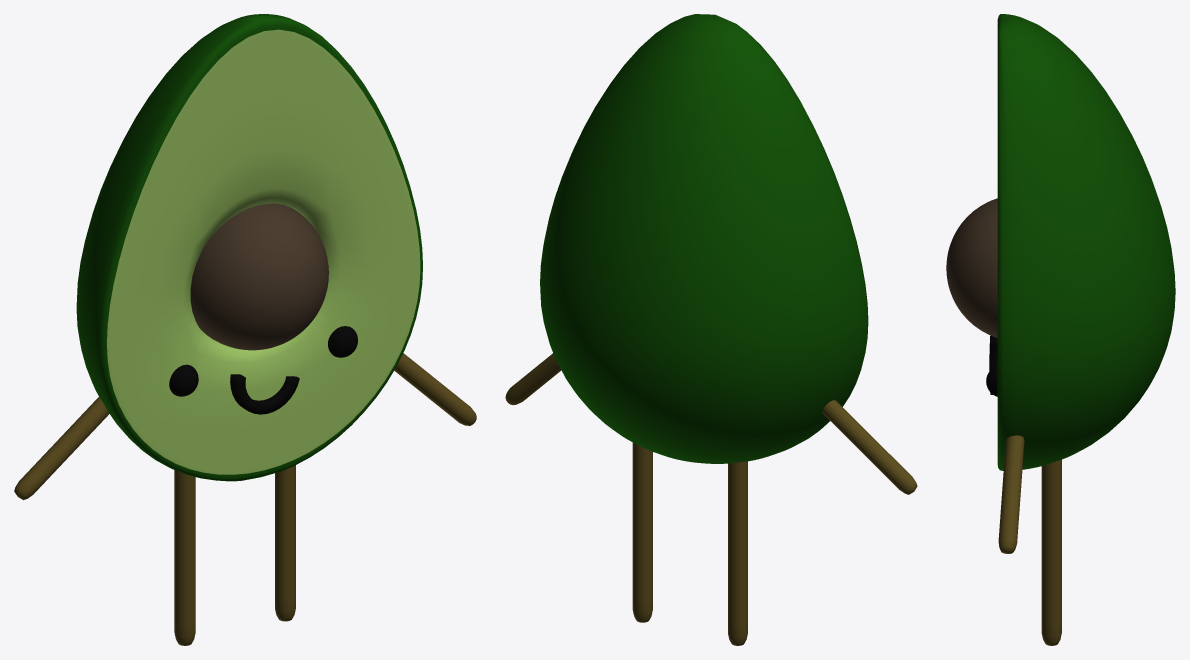
File: Gauca.glb
The picture shows the model from 3 angles, left to right: view 1: azimuth 30°, elevation 25°; view 2: azimuth 150°, elevation 25°; view 3: azimuth 270°, elevation 25°; orthographic projection. The views are drawn at different scales.
Parts seen in each view (by area): view 1: Sphere.006, Sphere.007, Cylinder.002, Circle.001, Sphere.004, Sphere.005; view 2: Sphere.006, Cylinder.002; view 3: Sphere.006, Cylinder.002, Sphere.007.
Boxes of the visible parts, x1,y1,x2,y2 form: Sphere.006: (76, 14, 422, 481); Sphere.007: (190, 203, 328, 350); Cylinder.002: (14, 353, 476, 645); Circle.001: (230, 374, 299, 414); Sphere.004: (328, 326, 357, 357); Sphere.005: (169, 364, 198, 396); Sphere.006: (540, 14, 868, 463); Cylinder.002: (505, 353, 917, 645); Sphere.006: (997, 14, 1175, 470); Cylinder.002: (998, 435, 1061, 645); Sphere.007: (946, 198, 997, 337).
Size of the model in its own units: 2.72 by 3.68 by 1.27.
